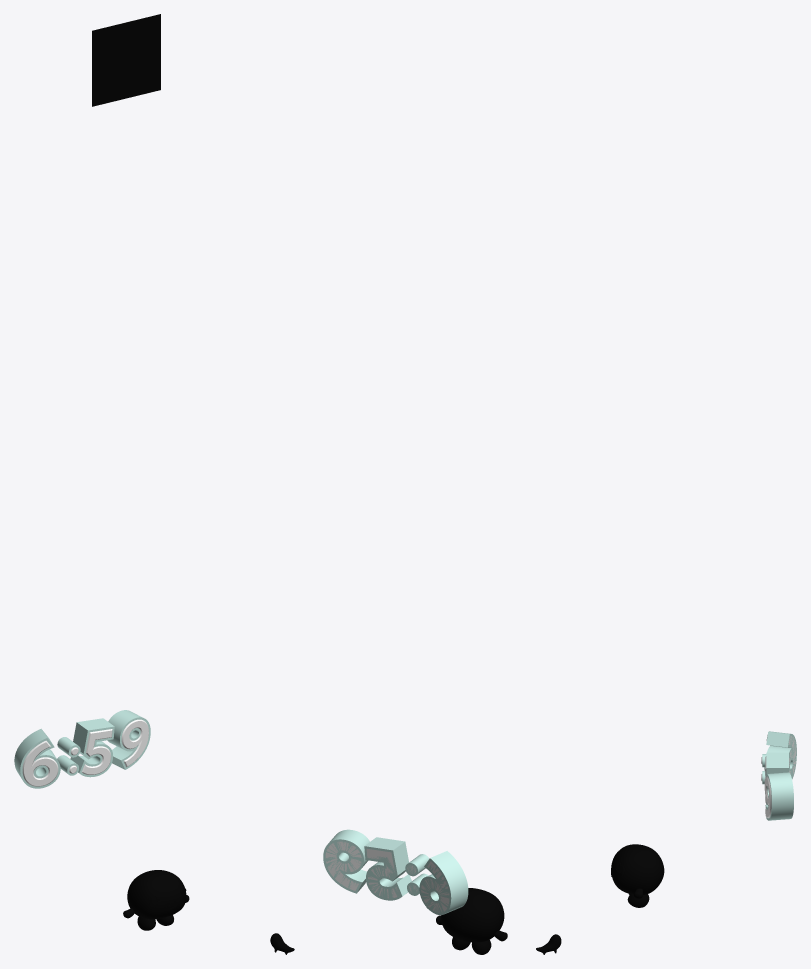
Rendered from maxON.glb.
3 views of the same model, side by side, from view 1: azimuth 30°, elevation 25°; view 2: azimuth 150°, elevation 25°; view 3: azimuth 270°, elevation 25° (orthographic). The views are drawn at different scales.
Visible parts, largest first — view 1: Plane002, on-からだ, Text003, 9, Text004, Text001, Text002, 010; view 2: on-からだ, Text004, Text003, 9, 010, Text002, Text001, ：001; view 3: on-からだ, 9, Text004.
Part boxes in pixels (<box>): Plane002: <box>92,14,160,106</box>; on-からだ: <box>127,870,186,919</box>; Text003: <box>70,718,114,777</box>; 9: <box>107,710,150,769</box>; Text004: <box>14,728,60,788</box>; Text001: <box>22,740,58,786</box>; Text002: <box>82,729,112,774</box>; 010: <box>121,719,148,767</box>; on-からだ: <box>441,888,504,942</box>; Text004: <box>419,851,468,915</box>; Text003: <box>364,837,411,900</box>; 9: <box>323,829,369,893</box>; 010: <box>325,841,361,890</box>; Text002: <box>366,848,397,898</box>; Text001: <box>421,861,449,912</box>; ：001: <box>405,854,429,895</box>; on-からだ: <box>611,844,664,894</box>; 9: <box>765,772,793,820</box>; Text004: <box>764,731,796,779</box>.
Size of the model in its own units: 10.41 by 57.99 by 15.53.
